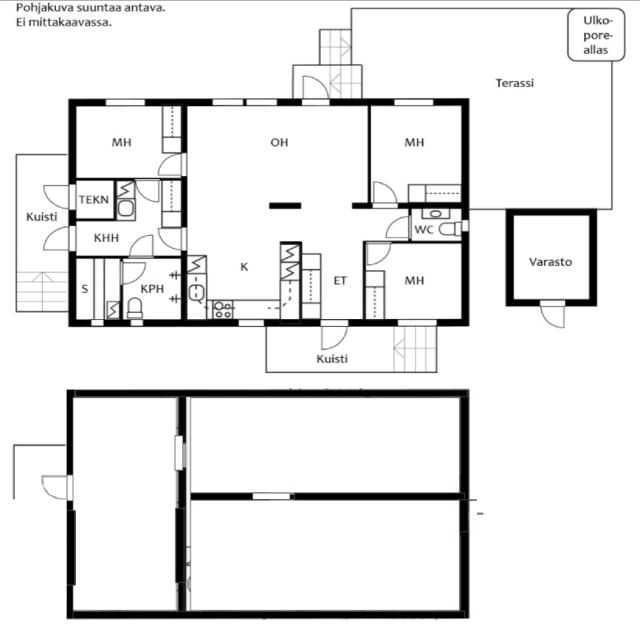door: (122, 256, 182, 322), (59, 180, 113, 216), (297, 72, 337, 106), (37, 471, 78, 504), (316, 316, 351, 352), (39, 223, 76, 256), (536, 298, 570, 332), (41, 181, 78, 212), (152, 151, 191, 178), (368, 178, 400, 209), (155, 225, 191, 252), (132, 176, 164, 206), (116, 259, 149, 287), (126, 232, 157, 260), (363, 239, 393, 267), (383, 213, 414, 240), (123, 294, 148, 322)
window: (205, 93, 282, 109), (384, 93, 440, 110), (99, 94, 151, 110), (244, 489, 299, 504), (173, 432, 191, 476), (392, 315, 442, 329), (231, 315, 272, 331), (459, 216, 473, 236), (85, 317, 108, 329), (126, 318, 149, 330)
zone: (184, 497, 465, 618), (184, 396, 469, 499), (70, 393, 182, 612), (180, 100, 373, 205), (180, 202, 302, 324), (367, 101, 465, 206), (68, 102, 188, 179), (363, 241, 466, 323), (510, 212, 593, 303), (90, 180, 186, 258), (122, 256, 181, 321), (72, 257, 122, 323), (409, 208, 466, 241), (69, 178, 114, 218)
